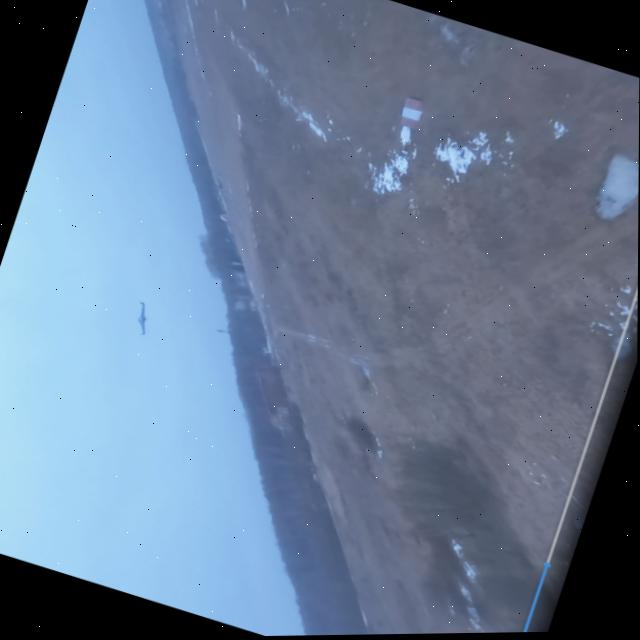planedrone: (123, 296, 159, 341)
